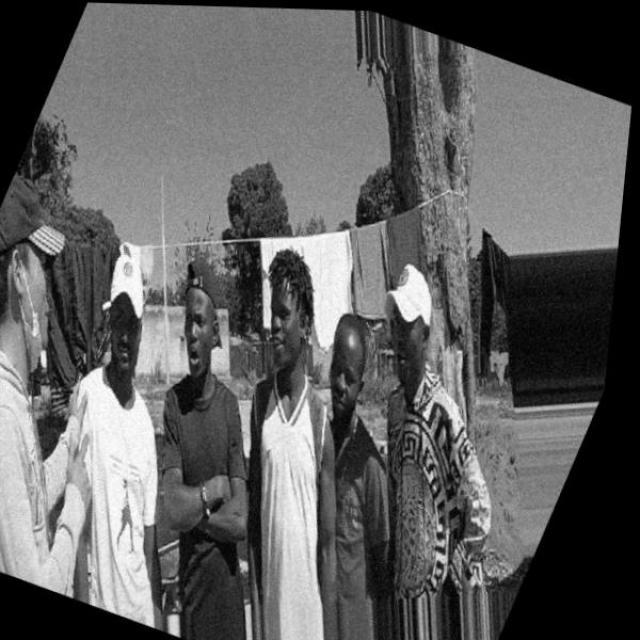hairnet: (0, 243, 87, 376)
